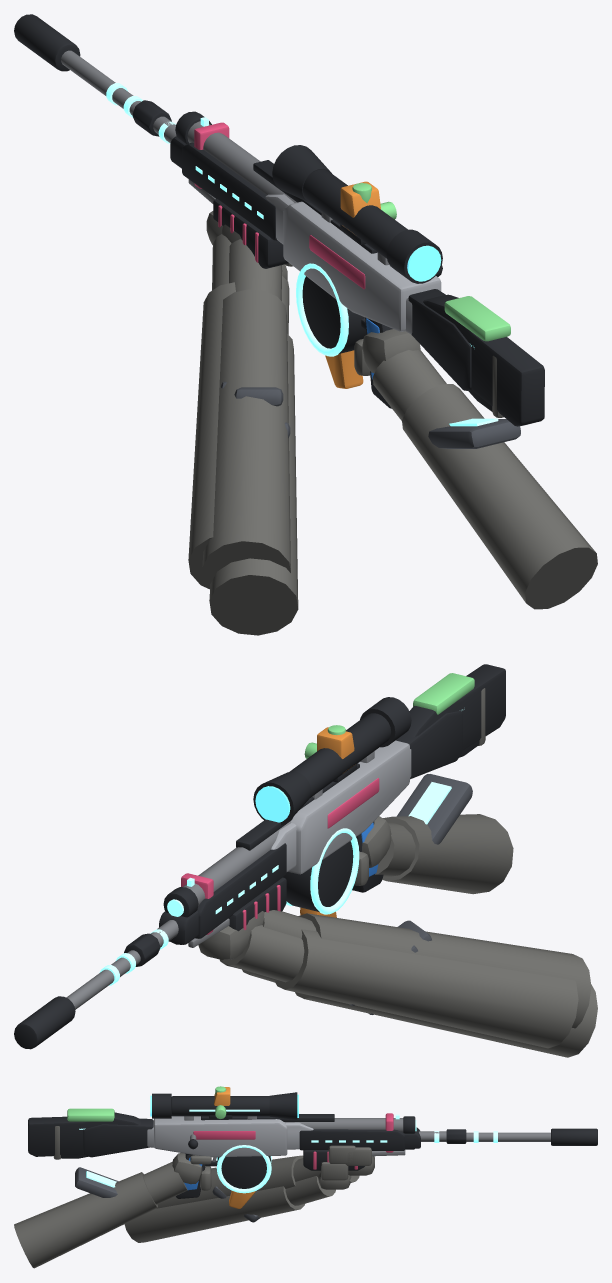
The model's file is weapons.glb.
3 renders of one model, top to bottom at view 1: azimuth 30°, elevation 25°; view 2: azimuth 150°, elevation 25°; view 3: azimuth 270°, elevation 25°, orthographic. The views are drawn at different scales.
Visible parts, largest first — view 1: WPN_sniper, WPN_shotgun, WPN_pistol, WPN_rifle; view 2: WPN_rifle, WPN_sniper, WPN_shotgun, WPN_pistol; view 3: WPN_shotgun, WPN_sniper, WPN_pistol, WPN_rifle.
Boxes of the visible parts, bbox=[...] form: WPN_sniper: bbox=[14, 14, 544, 586]; WPN_shotgun: bbox=[175, 111, 471, 635]; WPN_pistol: bbox=[354, 317, 597, 609]; WPN_rifle: bbox=[132, 100, 503, 589]; WPN_rifle: bbox=[124, 688, 578, 1048]; WPN_sniper: bbox=[14, 664, 591, 1049]; WPN_shotgun: bbox=[163, 711, 597, 1057]; WPN_pistol: bbox=[352, 774, 513, 894]; WPN_shotgun: bbox=[83, 1113, 416, 1242]; WPN_sniper: bbox=[28, 1086, 597, 1208]; WPN_pistol: bbox=[14, 1153, 217, 1268]; WPN_rifle: bbox=[53, 1087, 466, 1208].
Size of the model in its own units: 0.4576 by 0.564 by 1.49.
